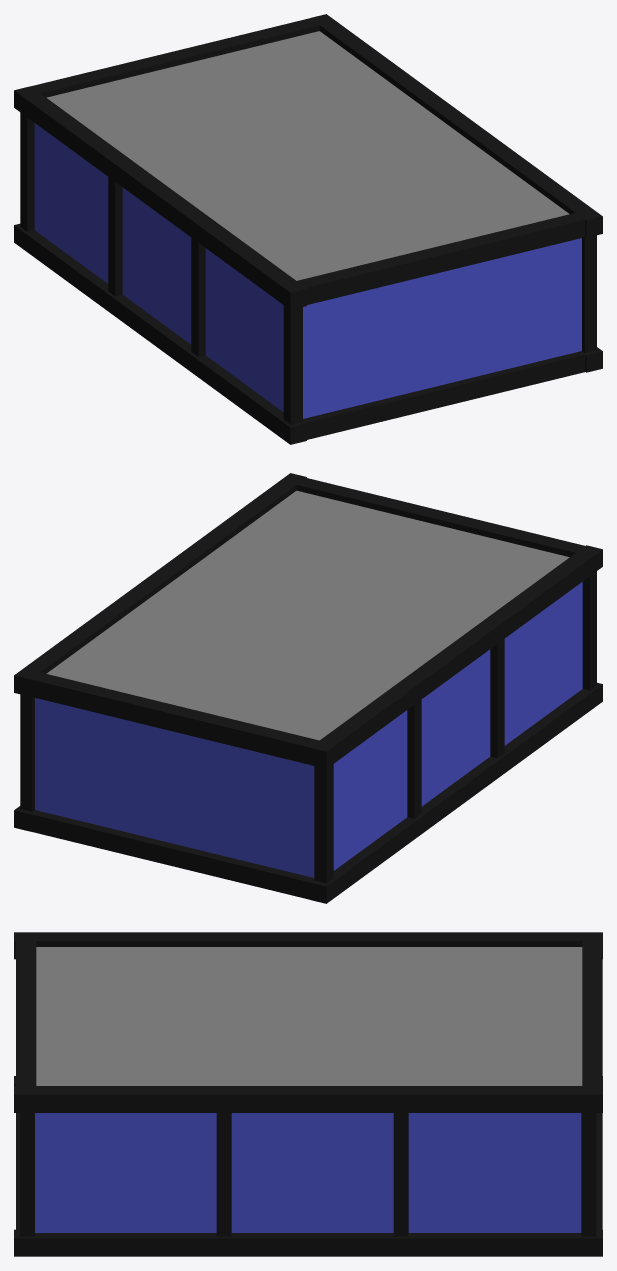
File: long_rover.obj
3 renders of one model, top to bottom at view 1: azimuth 30°, elevation 25°; view 2: azimuth 150°, elevation 25°; view 3: azimuth 270°, elevation 25°, orthographic. The views are drawn at different scales.
Visible parts, largest first — view 1: Plane; view 2: Plane; view 3: Plane.
Boxes of the visible parts, bbox=[...] form: Plane: bbox=[14, 14, 602, 444]; Plane: bbox=[14, 473, 602, 903]; Plane: bbox=[14, 932, 602, 1256].
Size of the model in its own units: 0.8842 by 0.4117 by 1.36.
1 material, 1 textured.
